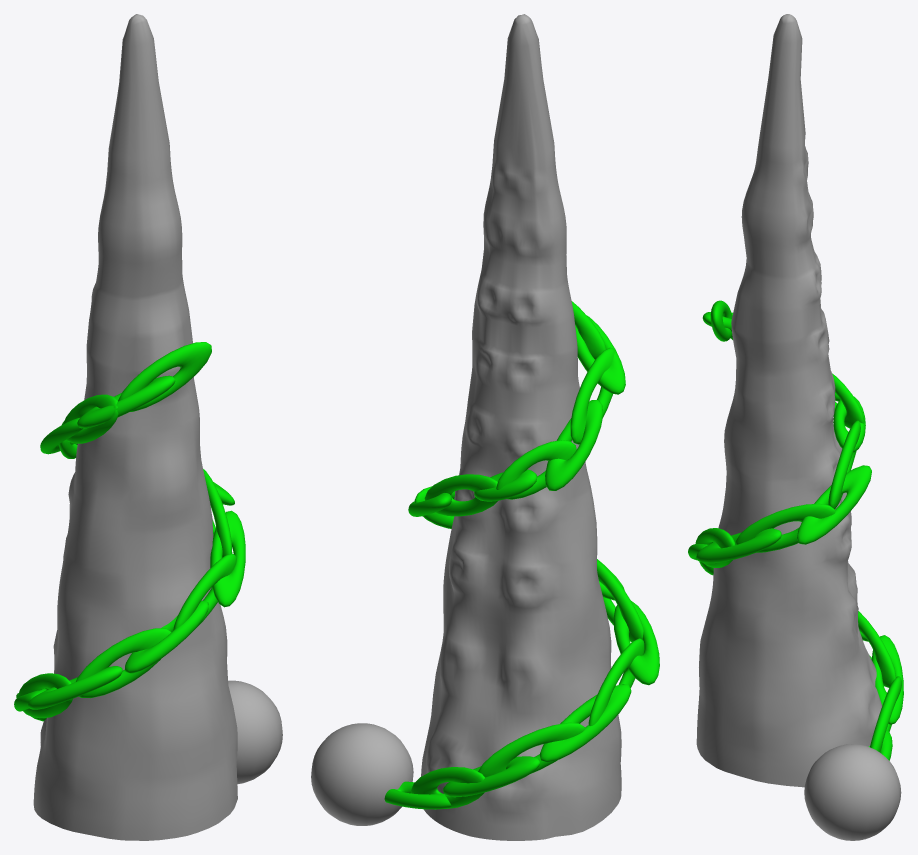
The model's file is Kraken path 2.fbx.
3 views of the same model, side by side, from view 1: azimuth 30°, elevation 25°; view 2: azimuth 150°, elevation 25°; view 3: azimuth 270°, elevation 25° (orthographic). The views are drawn at different scales.
Parts seen in each view (by area): view 1: pSphere2; view 2: pSphere2; view 3: pSphere2.
Part boxes in pixels (box(x1,y1,x2,y2)): pSphere2: box(14, 14, 282, 840); pSphere2: box(311, 14, 659, 840); pSphere2: box(688, 14, 903, 840).
Bounding box in the file's own units: 157 × 418 × 107.
